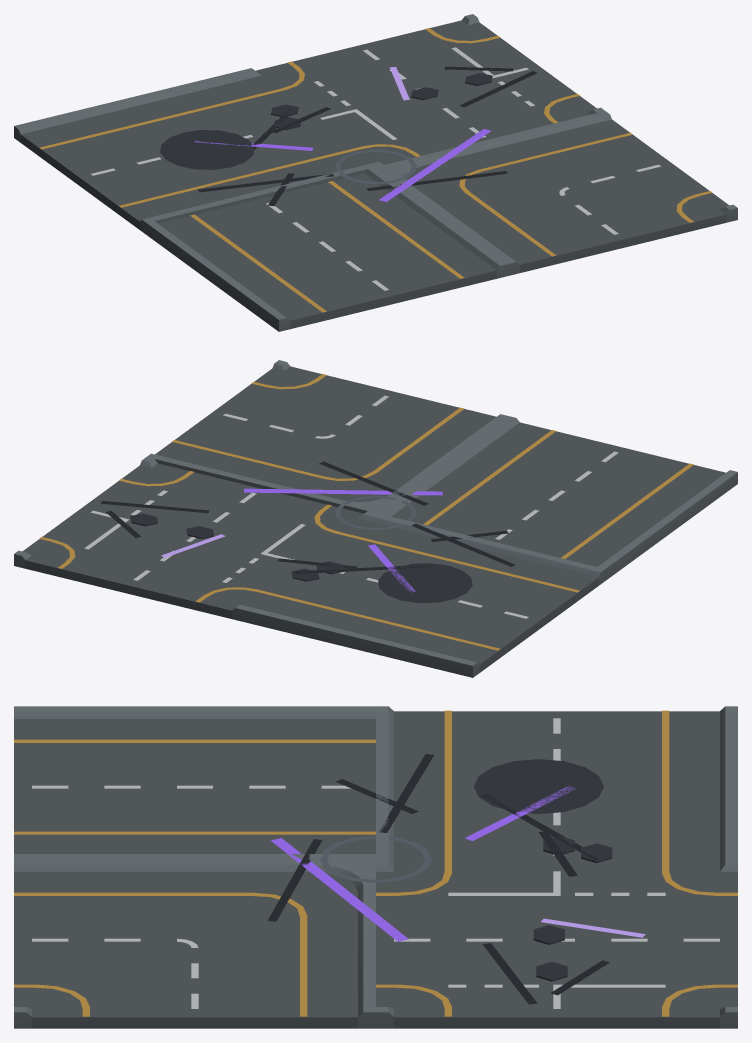
The model's file is floor_a.fbx.
3 views of the same model, one above another, from view 1: azimuth 30°, elevation 25°; view 2: azimuth 150°, elevation 25°; view 3: azimuth 270°, elevation 25° (orthographic). The views are drawn at different scales.
Parts seen in each view (by area): view 1: floor_a; view 2: floor_a; view 3: floor_a.
Part boxes in pixels (<box>): floor_a: <box>14,14,737,331</box>; floor_a: <box>14,360,737,677</box>; floor_a: <box>14,706,737,1028</box>.
Size of the model in its own units: 4 by 0.1 by 4.
